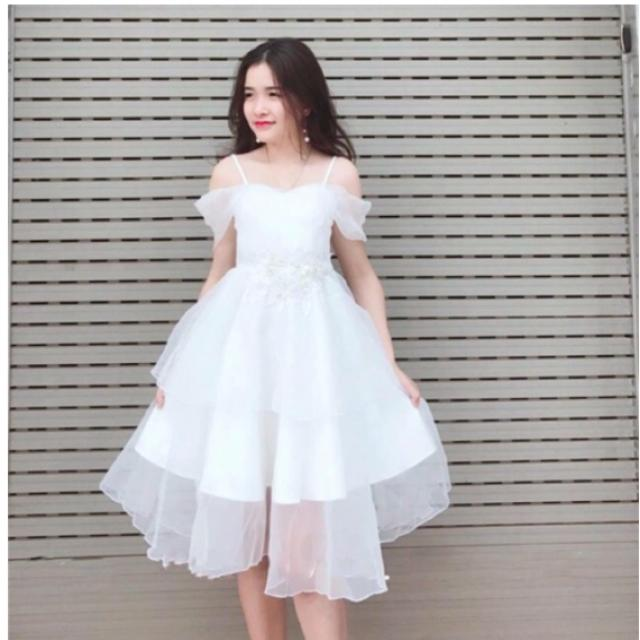clothes: (200, 153, 388, 544)
